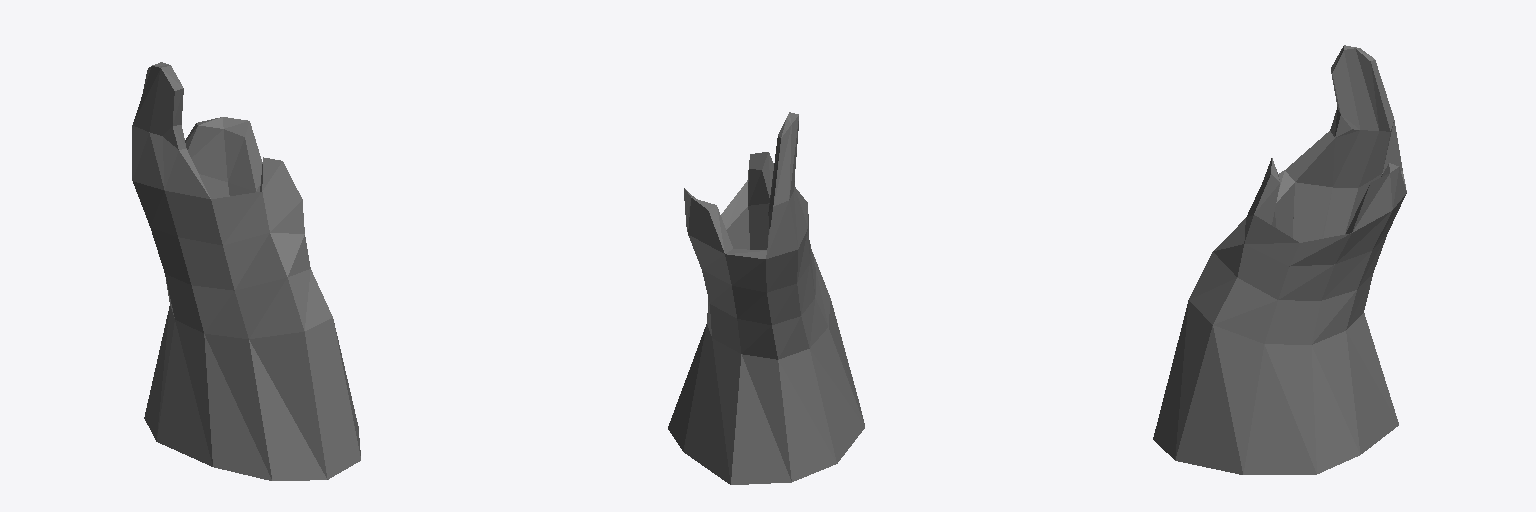
File: Trunck_chopped_001.obj
The picture shows the model from 3 angles: view 1: azimuth 30°, elevation 25°; view 2: azimuth 150°, elevation 25°; view 3: azimuth 270°, elevation 25°; orthographic projection.
Visible parts, largest first — view 1: polySurface1 Piedra_de__mierda:pCylinder3; view 2: polySurface1 Piedra_de__mierda:pCylinder3; view 3: polySurface1 Piedra_de__mierda:pCylinder3.
Part boxes in pixels (left/top/right/bottom): polySurface1 Piedra_de__mierda:pCylinder3: left=132, top=62, right=360, bottom=480; polySurface1 Piedra_de__mierda:pCylinder3: left=668, top=112, right=864, bottom=484; polySurface1 Piedra_de__mierda:pCylinder3: left=1153, top=45, right=1406, bottom=474.
Size of the model in its own units: 72.58 by 148 by 94.74.